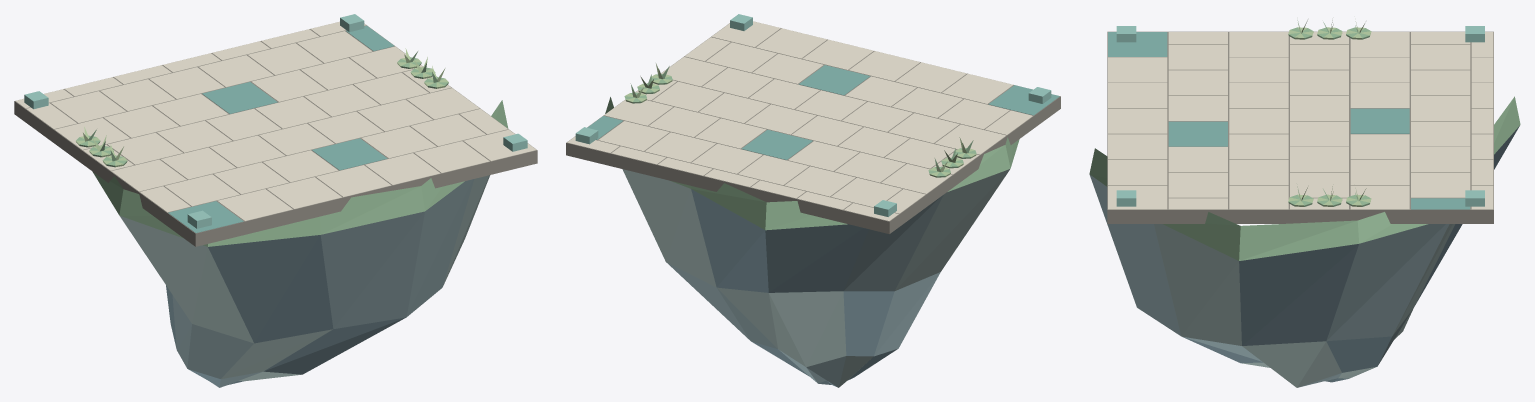
File: FloatingIsland16.glb
3 views of the same model, side by side, from view 1: azimuth 30°, elevation 25°; view 2: azimuth 150°, elevation 25°; view 3: azimuth 270°, elevation 25° (orthographic). The views are drawn at different scales.
Parts seen in each view (by area): view 1: FloatingIsland16; view 2: FloatingIsland16; view 3: FloatingIsland16.
Part boxes in pixels (bbox=[...]): FloatingIsland16: bbox=[14, 14, 537, 387]; FloatingIsland16: bbox=[566, 14, 1060, 387]; FloatingIsland16: bbox=[1089, 20, 1520, 387].
Size of the model in its own units: 8.24 by 5.72 by 7.47.
